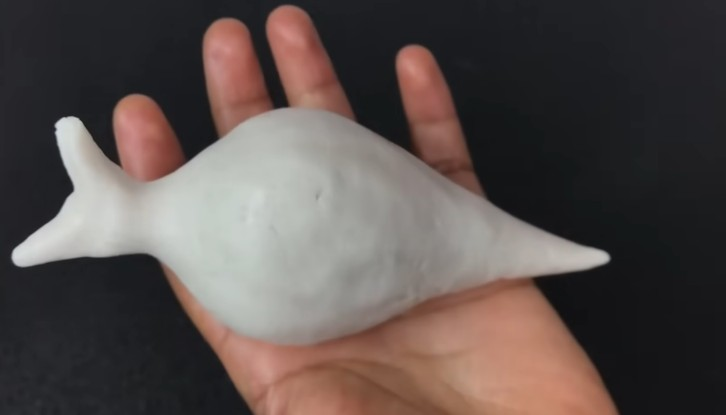yomari: (19, 109, 614, 321)
